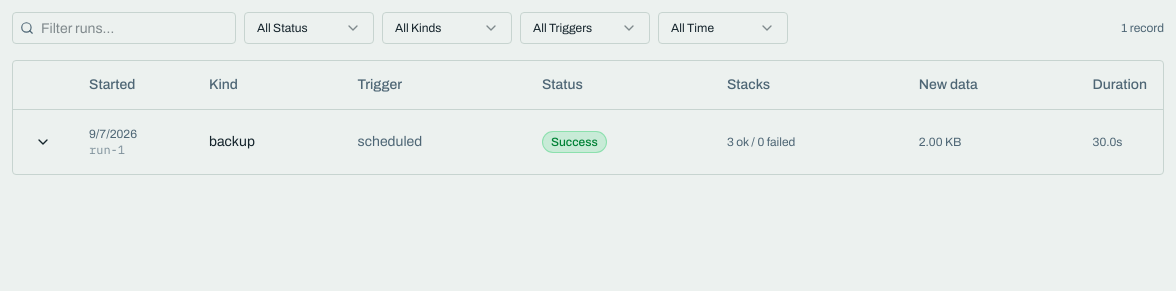
BackupHistoryTab — a failed REFETCH must not discard data › keeps the populated run-detail rows when a REFETCH fails
Expected: the text "run-1" is shown, [89,142,125,156]
Click the button named "Show details for run run-1" at (43, 142), box [29,128,57,156]
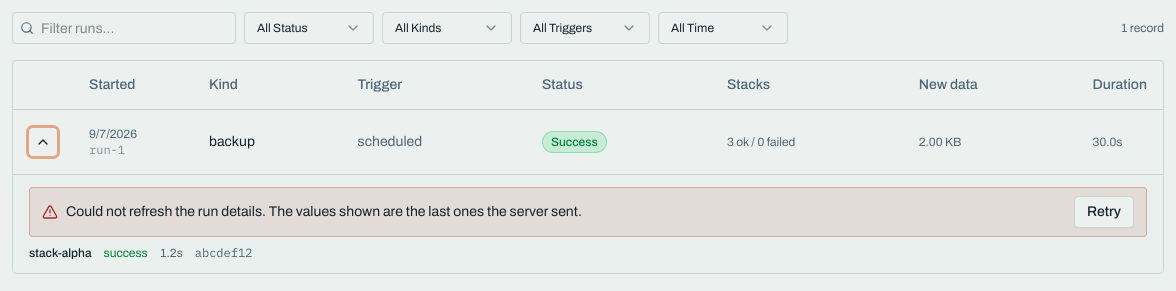
Expected: the text "stack-alpha" is shown, [29,244,92,260]
Expected: the text "Could not refresh the run details" is shown, [66,202,582,222]
Expected: the button "Retry" is shown
Click the button "Retry" at (1104, 212), box [1074,196,1134,228]
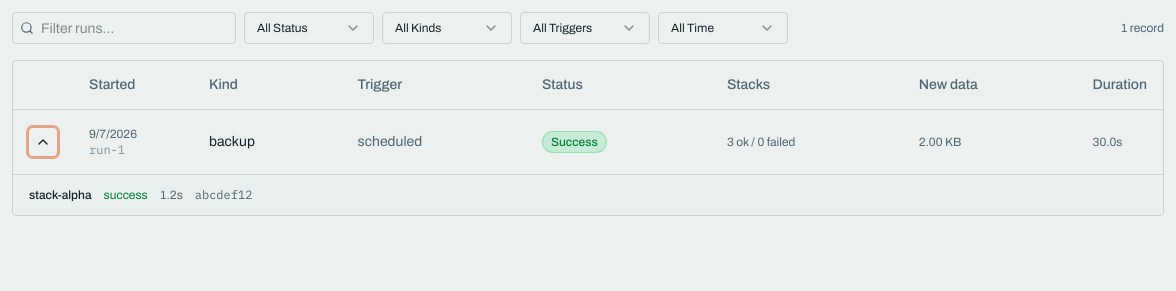
Expected: the text "Could not refresh the run details" is gone
